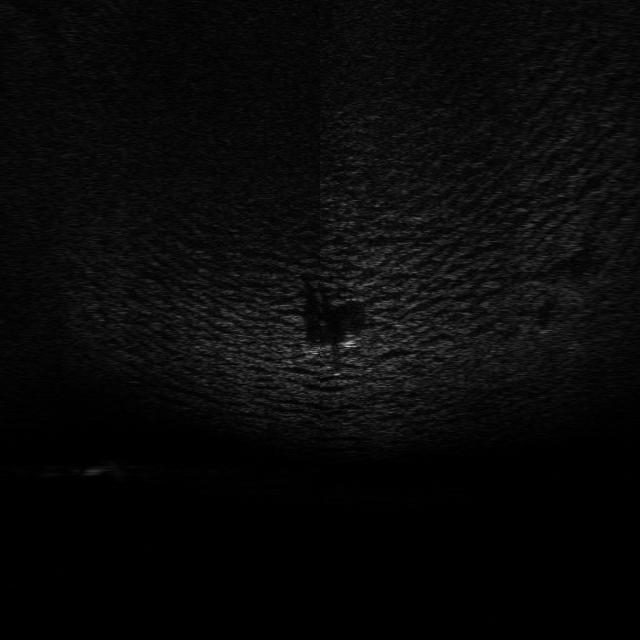plane: (294, 328, 364, 364)
